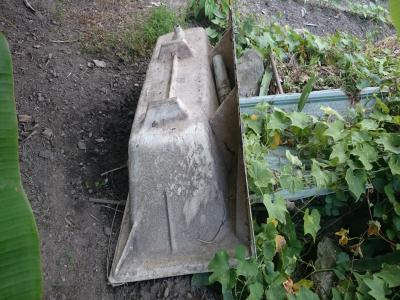tub: (104, 17, 266, 286)
